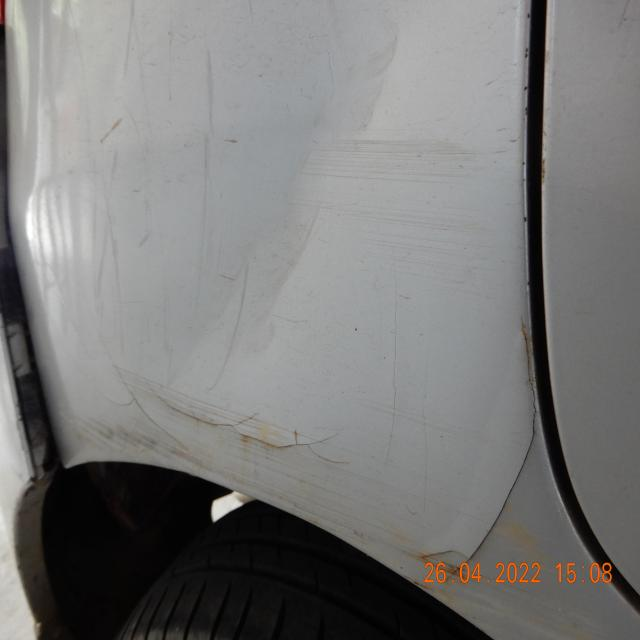damage: (418, 309, 541, 584), (118, 361, 343, 461)
